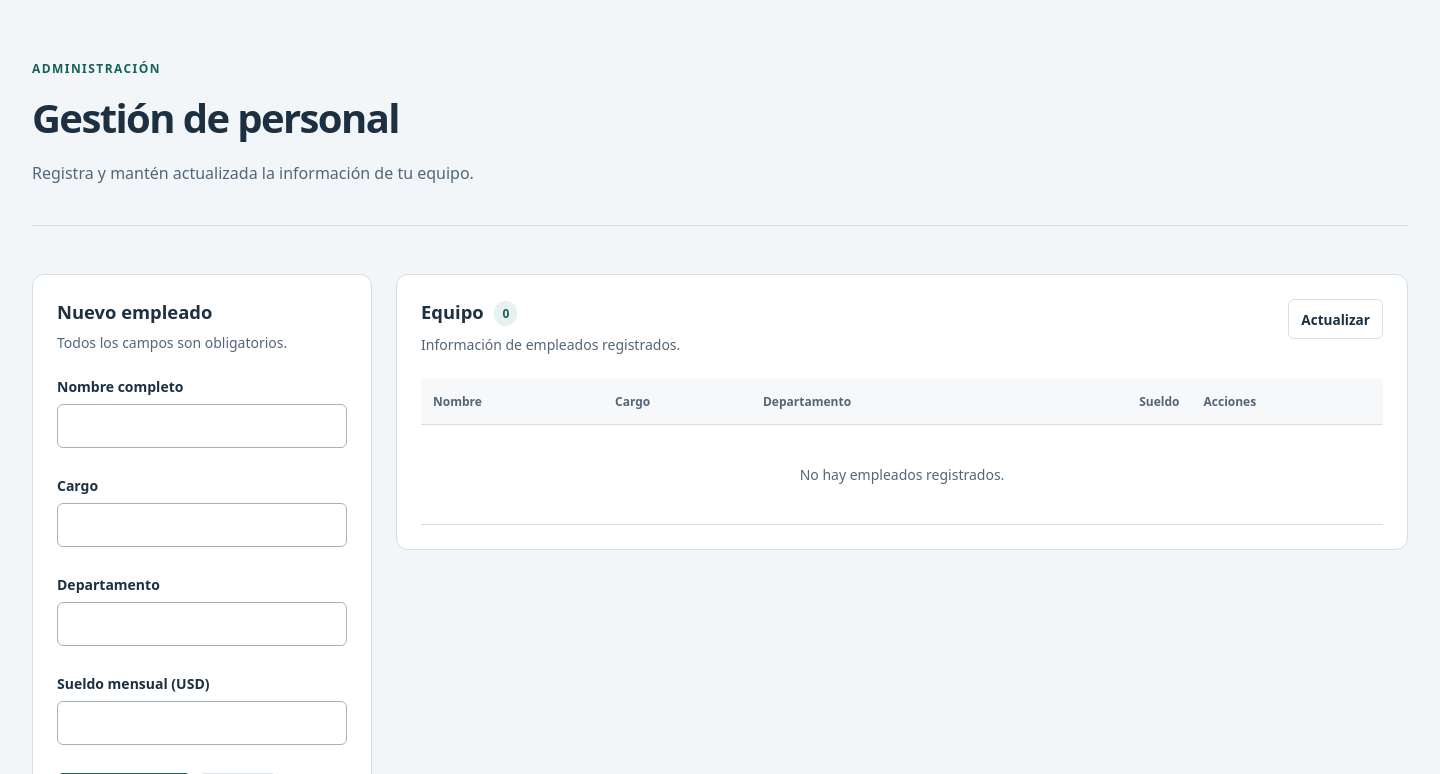
Test: Gestión de empleados: contenedor y componentes presentacionales › crea un empleado con el DTO y limpia el formulario solo después del éxito
Type "  Luis Pérez  " into the field with id "nombre" at (202, 426), box [57,404,347,448]
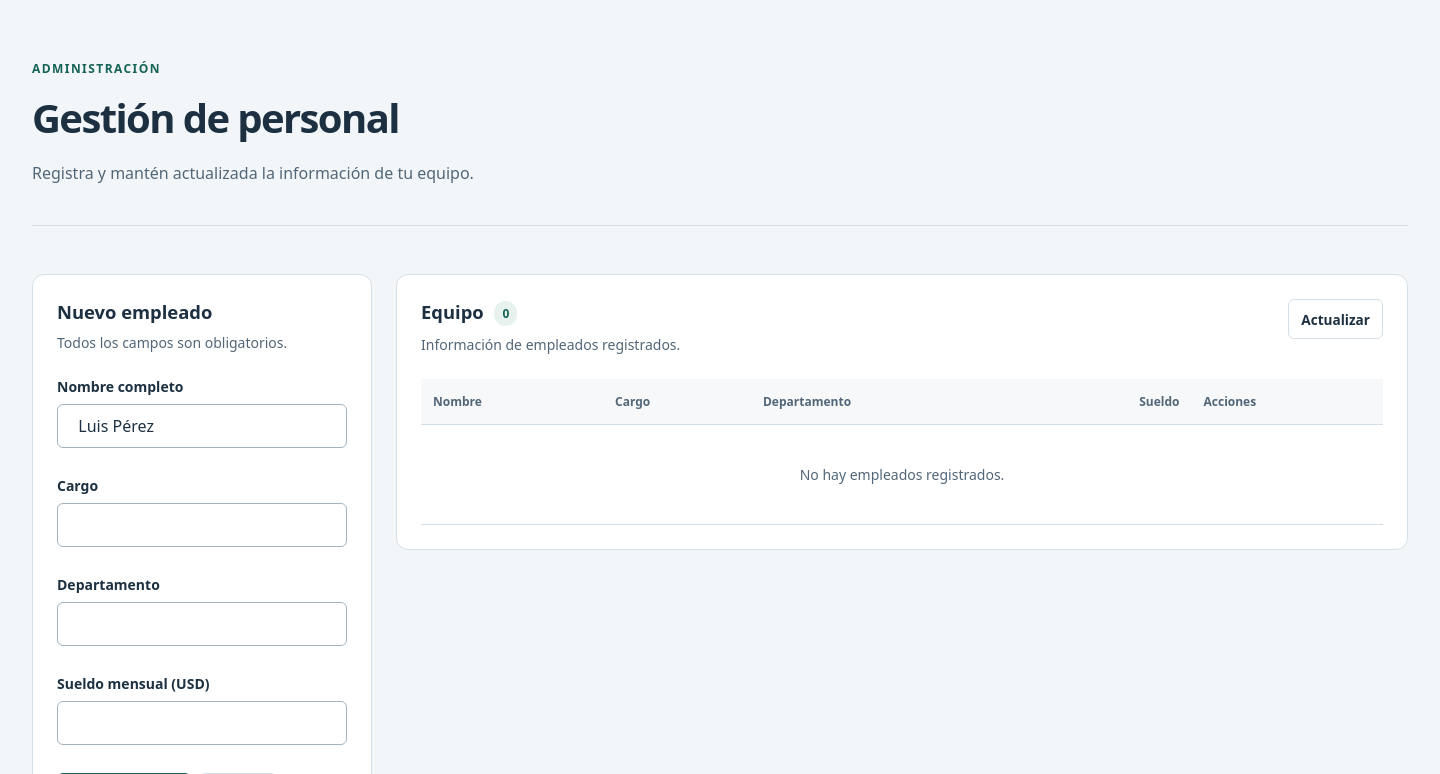
Type "Diseñador" into the field with id "cargo" at (202, 525), box [57,503,347,547]
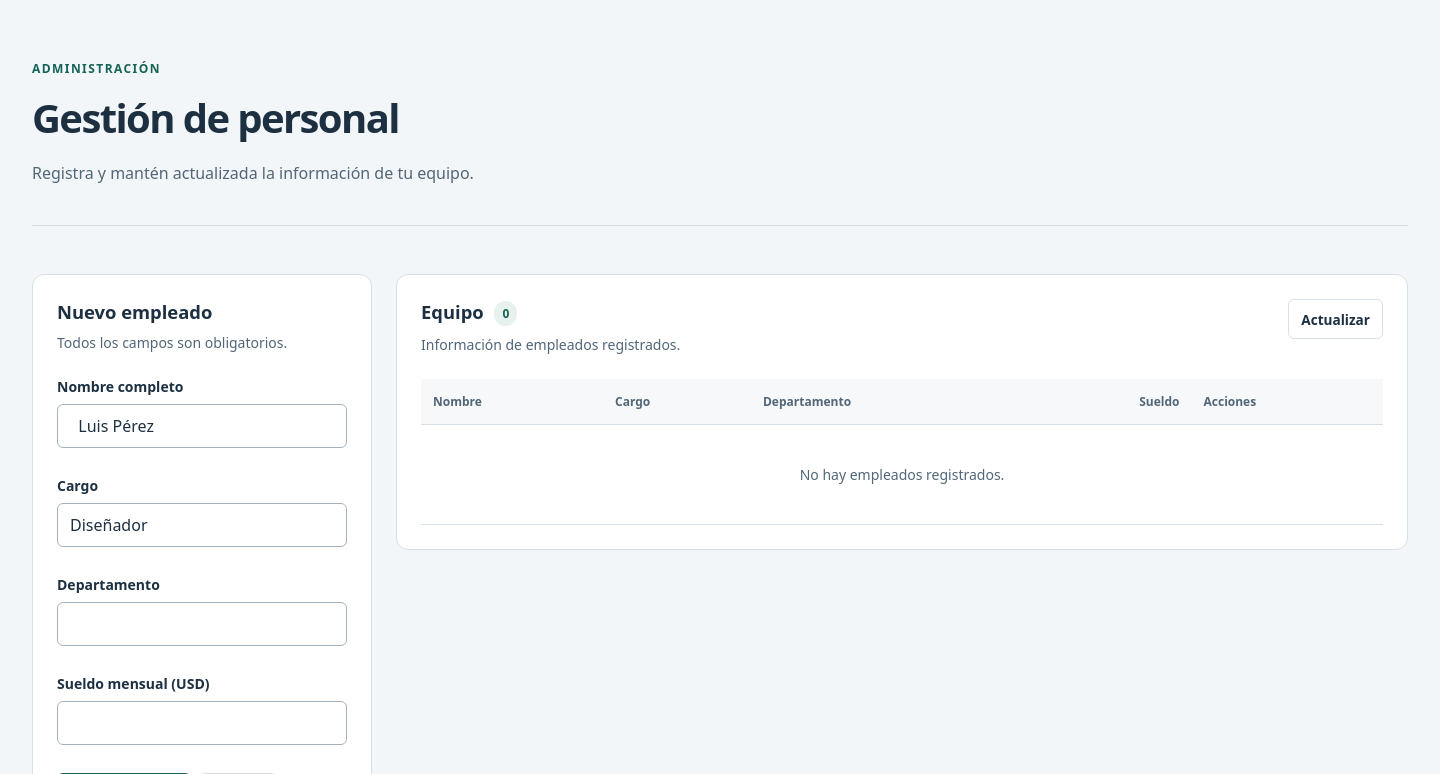
Type "Producto" into the field labelled "Departamento" at (202, 624), box [57,602,347,646]
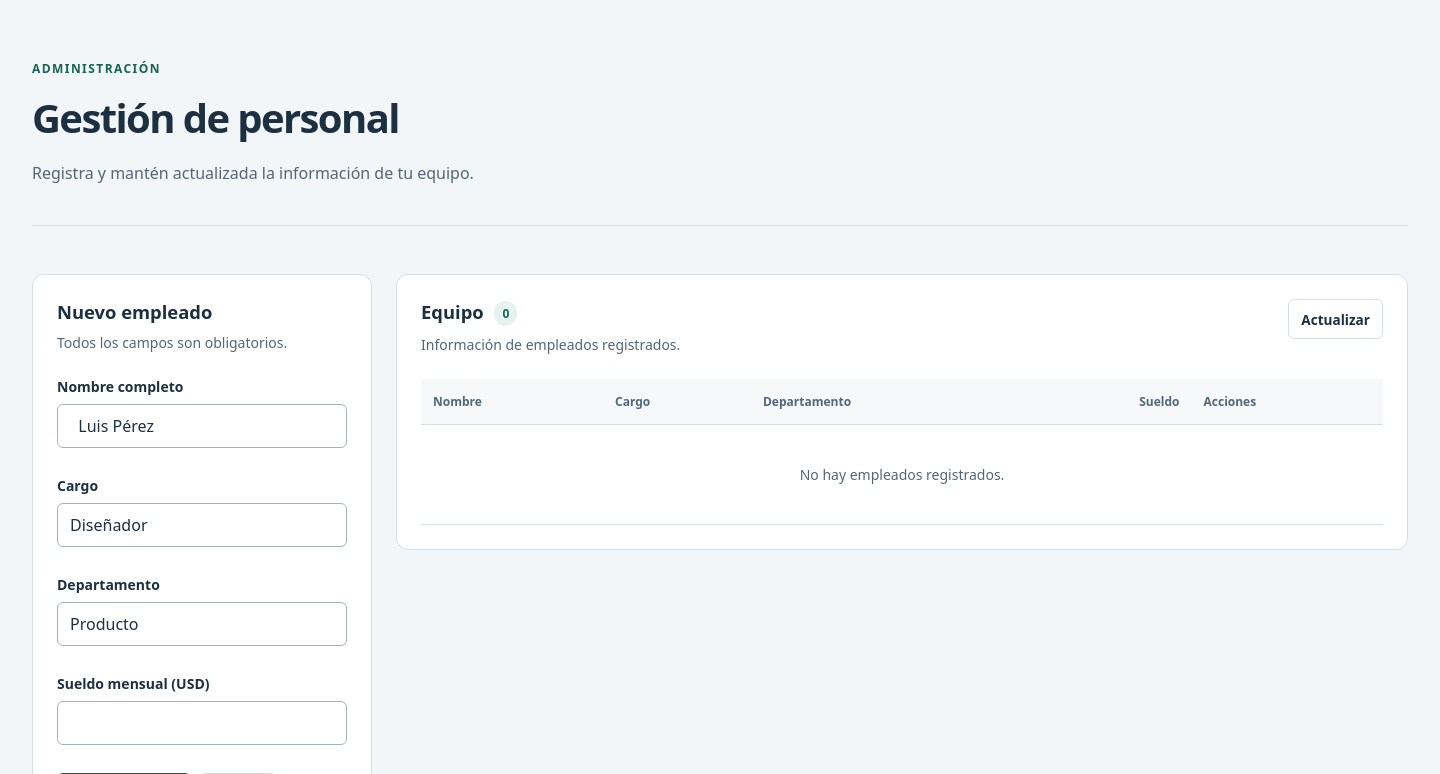
Type "2200" into the number field with id "sueldo" at (202, 723), box [57,701,347,745]
(page scrolled)
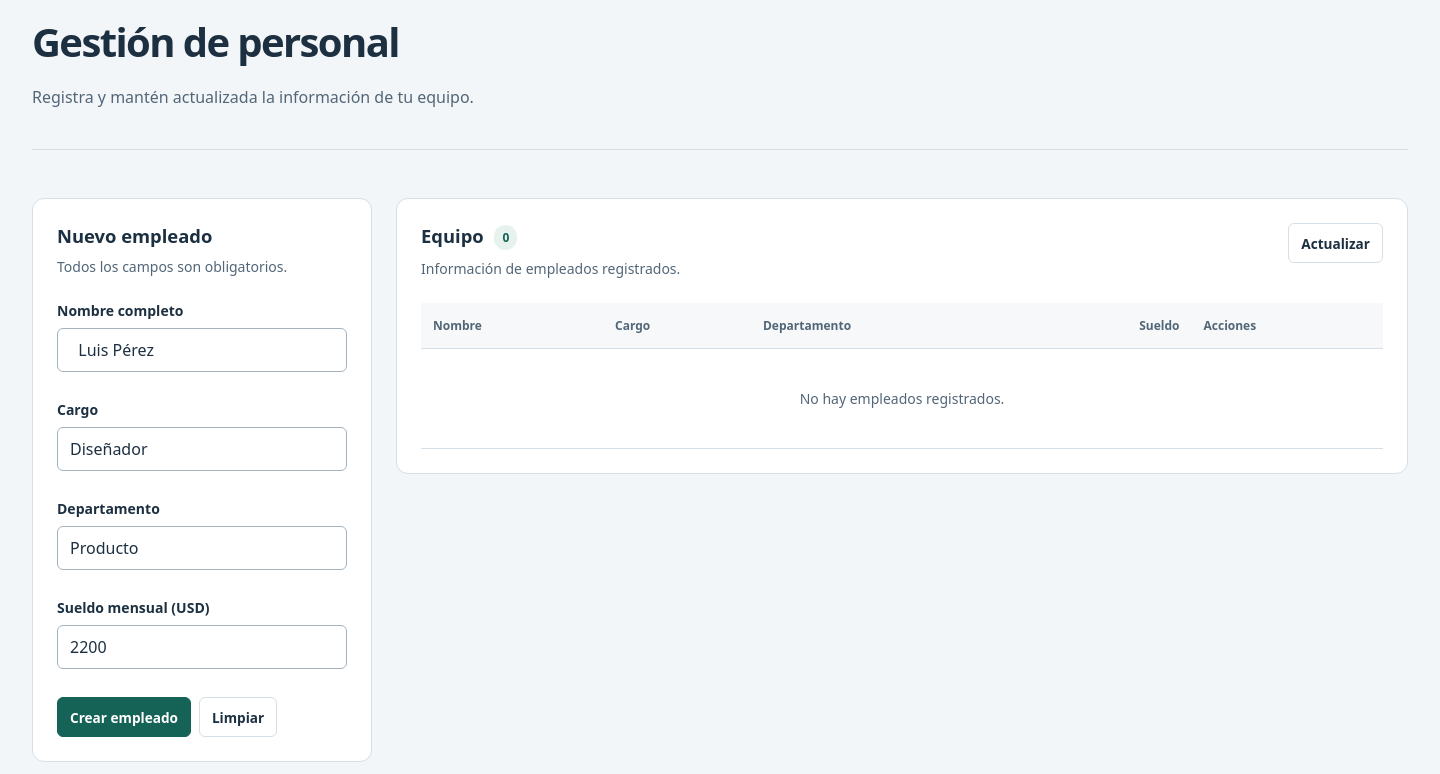
Submit the form, box [57,301,347,737]
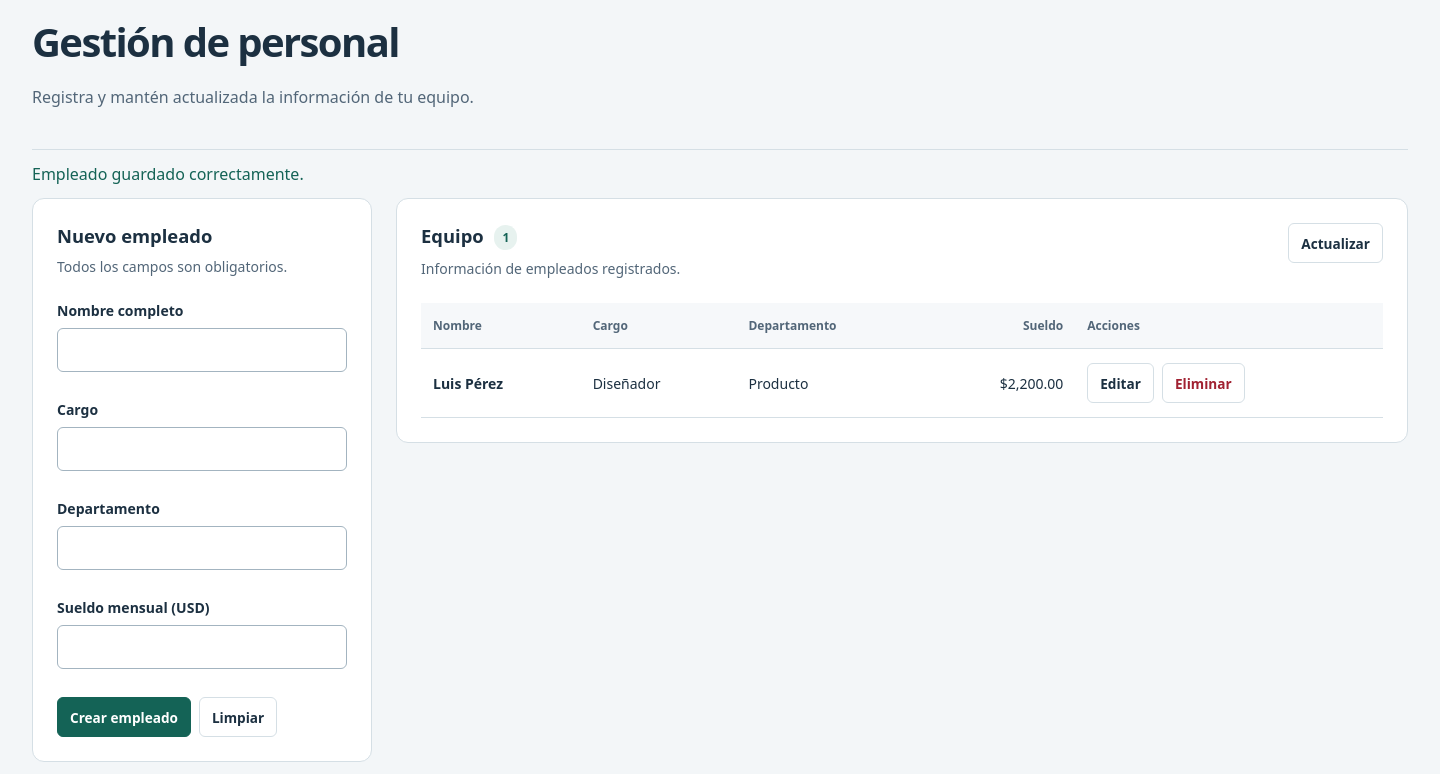
Now the message "Empleado guardado correctamente." is shown, box [32,163,304,185]
